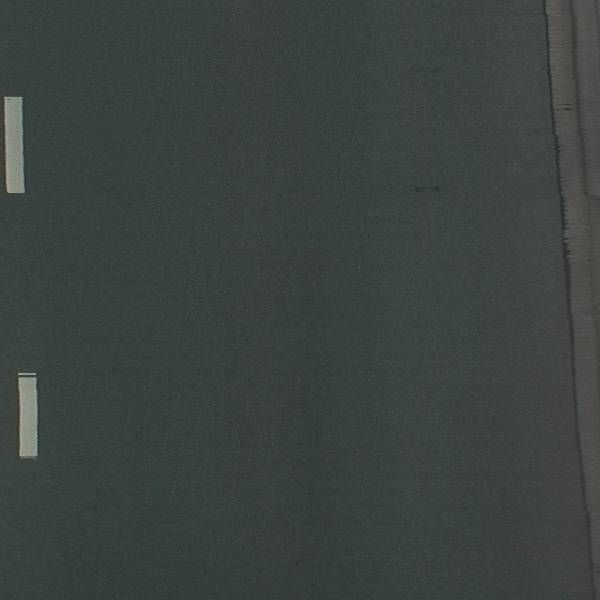road_damage: (412, 185, 450, 195)
